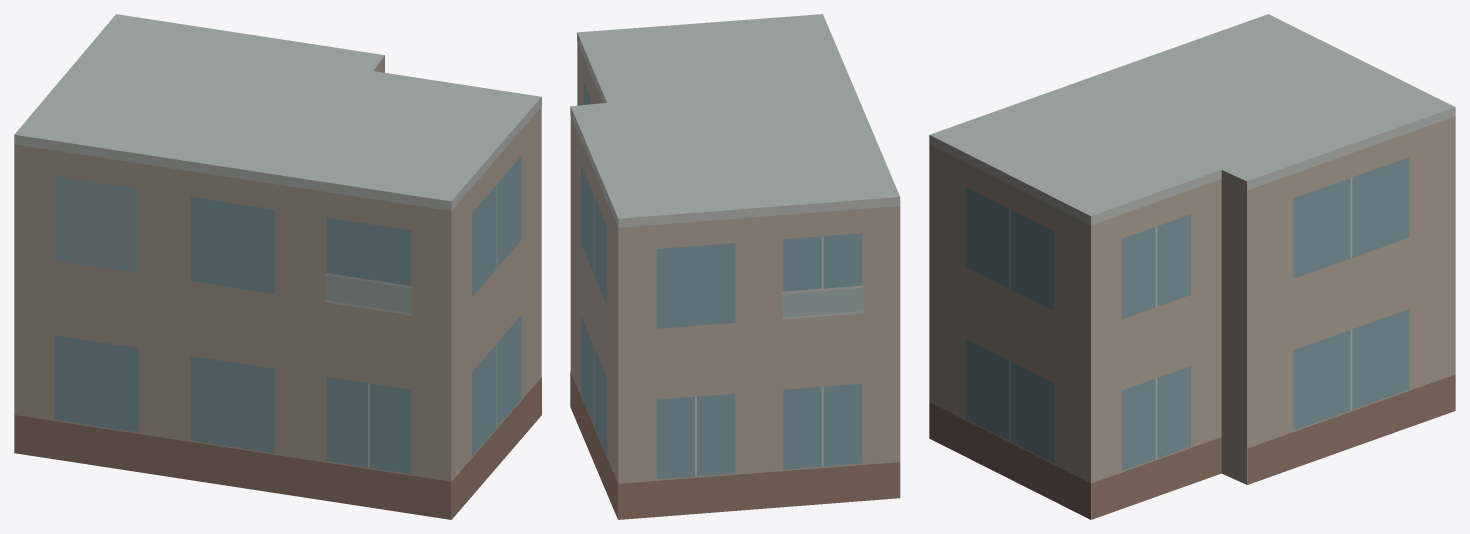
Rendered from survey-upis-32499397.glb.
3 renders of one model, left to right at view 1: azimuth 30°, elevation 25°; view 2: azimuth 150°, elevation 25°; view 3: azimuth 270°, elevation 25°, orthographic. The views are drawn at different scales.
Visible parts, largest first — view 1: survey-upis-32499397.tmp; view 2: survey-upis-32499397.tmp; view 3: survey-upis-32499397.tmp.
Boxes of the visible parts, bbox=[...] form: survey-upis-32499397.tmp: bbox=[14, 14, 541, 519]; survey-upis-32499397.tmp: bbox=[570, 14, 900, 519]; survey-upis-32499397.tmp: bbox=[929, 14, 1455, 519].
Size of the model in its own units: 11.58 by 8.1 by 12.73.
